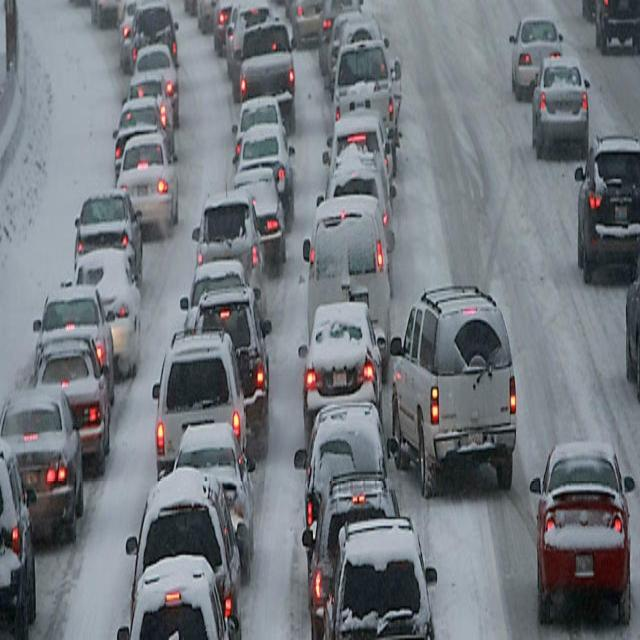Car: (394, 273, 520, 492), (125, 463, 243, 638), (530, 440, 636, 631), (151, 321, 250, 481), (305, 192, 394, 352), (304, 478, 398, 624), (0, 390, 83, 546), (332, 510, 431, 640), (32, 325, 112, 469), (574, 130, 640, 282), (298, 299, 387, 411), (70, 246, 142, 375), (328, 33, 398, 165), (191, 192, 268, 300), (301, 403, 388, 492), (186, 253, 264, 351), (0, 442, 36, 637), (226, 165, 289, 273), (531, 54, 592, 160), (230, 13, 295, 111), (233, 113, 294, 216), (117, 134, 178, 235), (73, 190, 142, 277), (511, 15, 567, 101), (129, 46, 181, 133), (315, 0, 369, 79), (116, 94, 171, 171), (127, 0, 179, 75), (593, 0, 640, 55), (287, 0, 328, 49)
